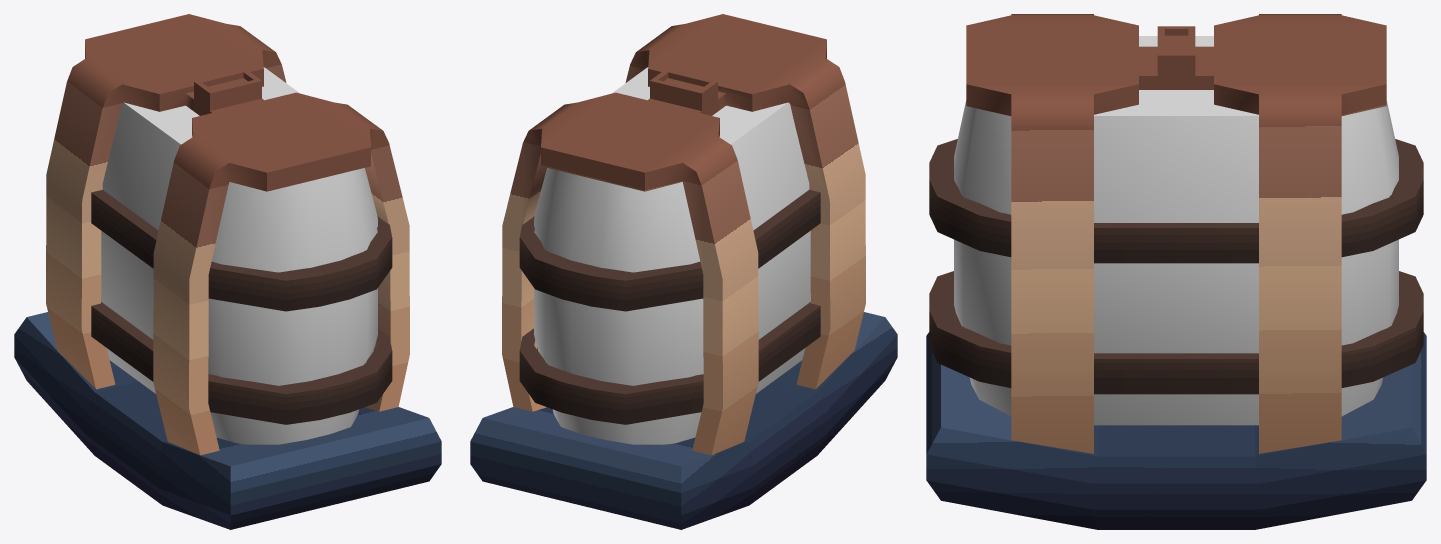
File: Magazine.fbx
3 views of the same model, side by side, from view 1: azimuth 30°, elevation 25°; view 2: azimuth 150°, elevation 25°; view 3: azimuth 270°, elevation 25° (orthographic). The views are drawn at different scales.
Visible parts, largest first — view 1: Cube.027, g_1.002; view 2: Cube.027, g_1.002; view 3: Cube.027, g_1.002.
Boxes of the visible parts, <box> form: Cube.027: <box>14,14,441,529</box>; g_1.002: <box>101,67,377,444</box>; Cube.027: <box>470,14,897,529</box>; g_1.002: <box>534,67,810,444</box>; Cube.027: <box>926,14,1426,529</box>; g_1.002: <box>954,36,1398,425</box>.
Bounding box in the file's own units: 70.59 × 115 × 120.
